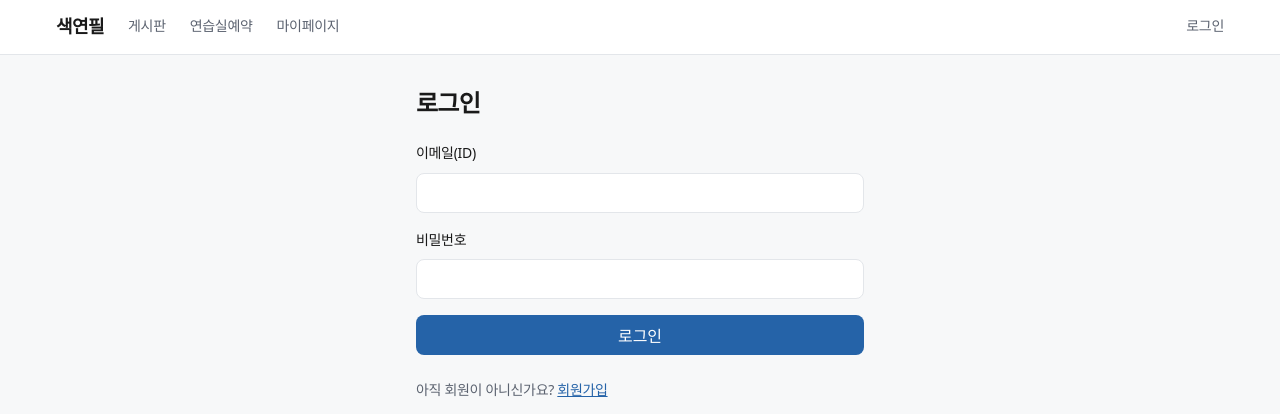
Scenario: S-01 가입 후 로그인까지 › 이어서 로그인하면 홈으로 이동하고 메뉴가 로그아웃으로 바뀐다
This screenshot has width=1280, height=414.
In the field labelled "이메일(ID)": x=640, y=193 [416,173,864,213], type "sax@example.com"
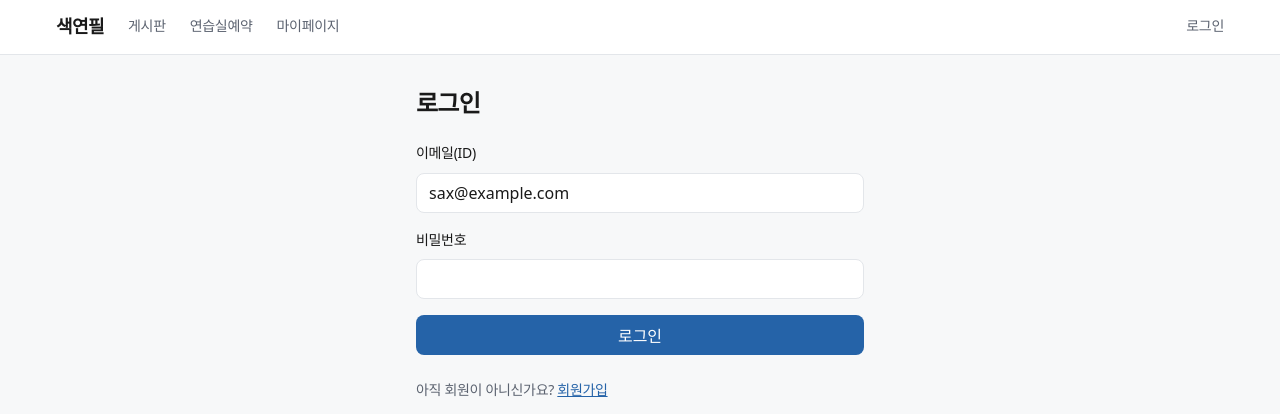
In the password field labelled "비밀번호": x=640, y=279 [416,259,864,299], type "password123"
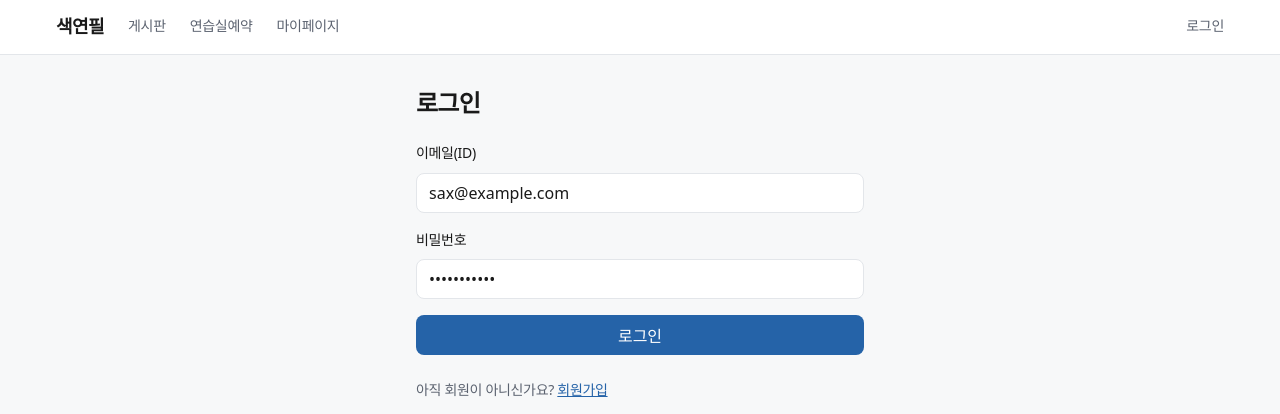
Click the button "로그인": x=640, y=335 [416,315,864,355]
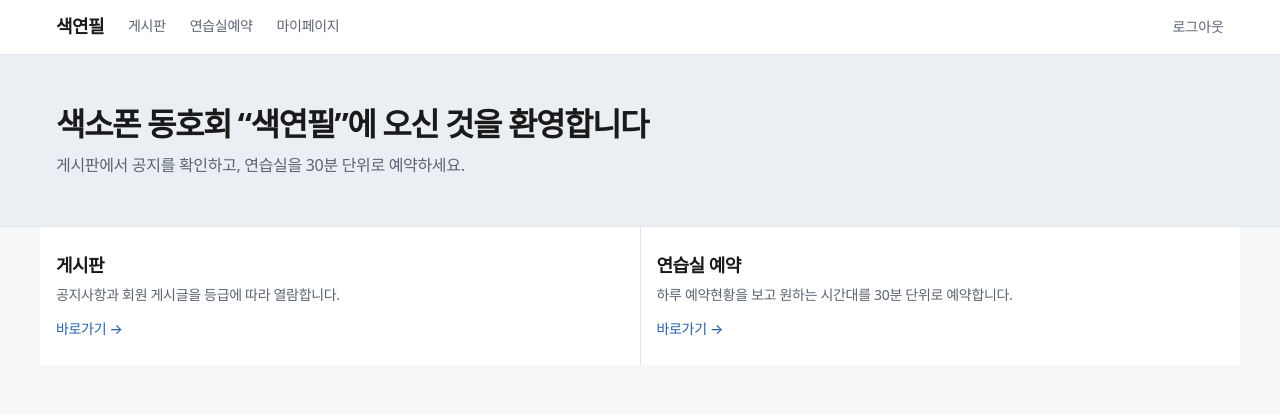
Expected: the heading "색소폰 동호회 “색연필”에 오신 것을 환영합니다" is shown, [56,102,648,145]
Expected: the button "로그아웃" is shown, [1172,16,1224,36]
